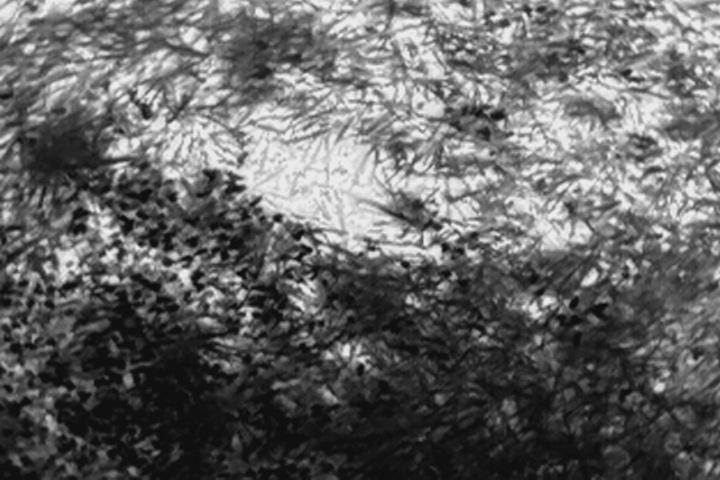landmine: (256, 141, 366, 221)
